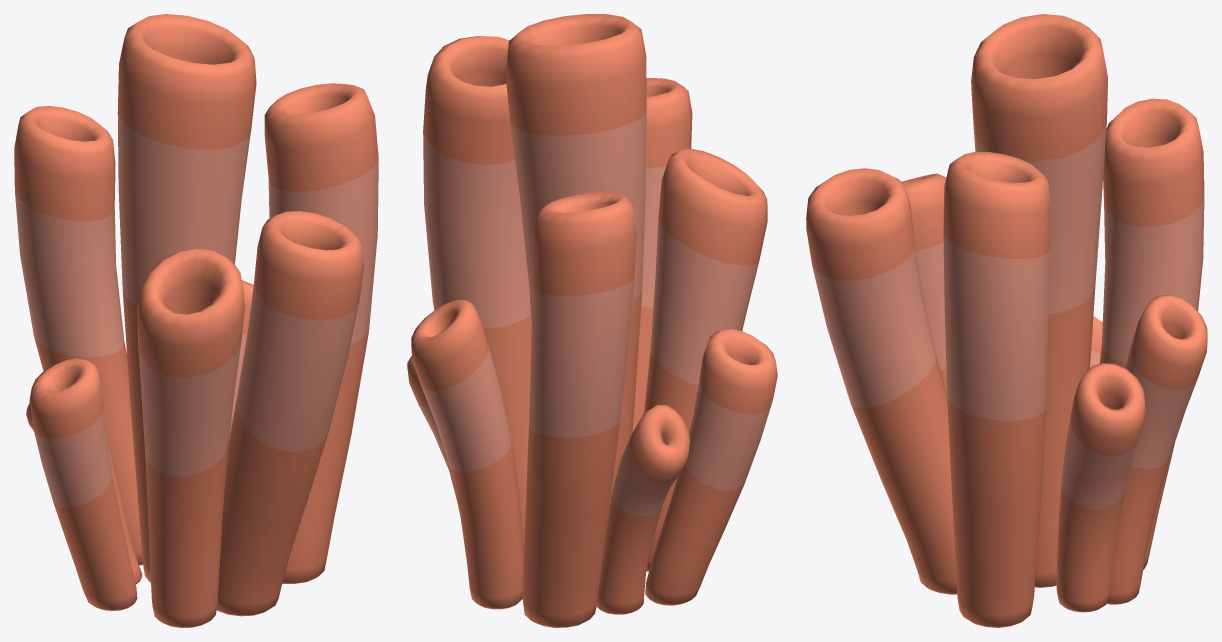
The model's file is Coral_C_02.fbx.
3 renders of one model, left to right at view 1: azimuth 30°, elevation 25°; view 2: azimuth 150°, elevation 25°; view 3: azimuth 270°, elevation 25°, orthographic. The views are drawn at different scales.
Visible parts, largest first — view 1: Coral_C_02_LOD0; view 2: Coral_C_02_LOD0; view 3: Coral_C_02_LOD0.
Boxes of the visible parts, bbox=[...] form: Coral_C_02_LOD0: bbox=[14, 14, 378, 627]; Coral_C_02_LOD0: bbox=[407, 14, 777, 627]; Coral_C_02_LOD0: bbox=[806, 14, 1207, 627].
Size of what is drawn, in the model's own units: 378 by 591 by 397.
